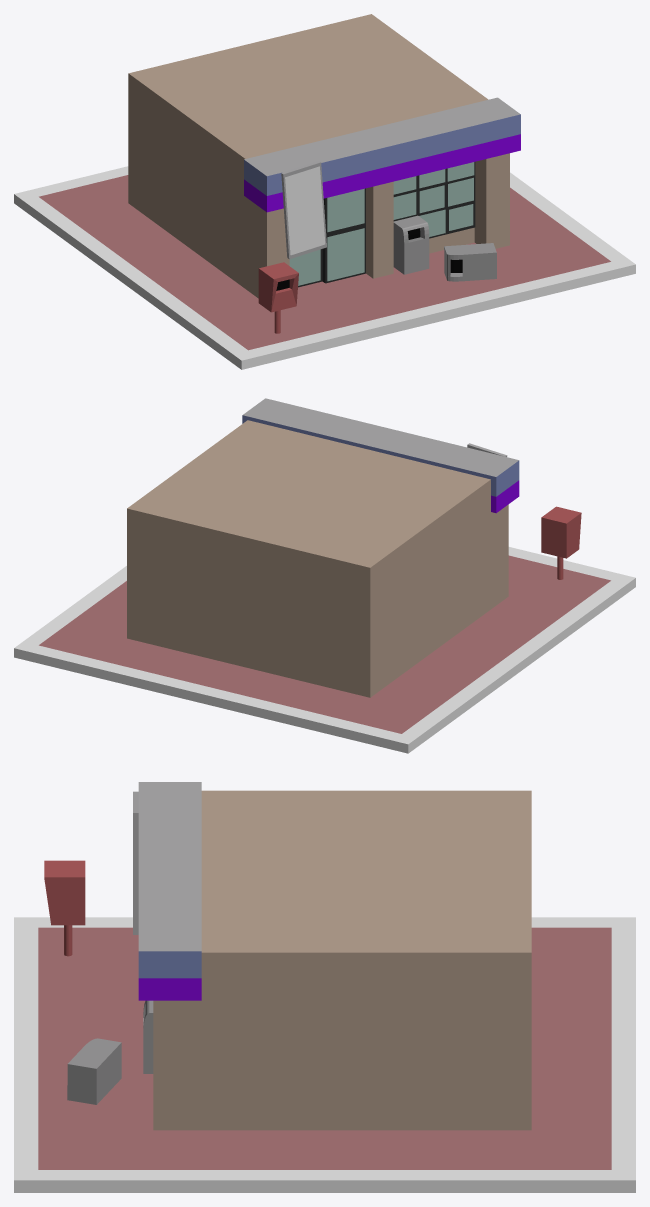
The model's file is Store.fbx.
The picture shows the model from 3 angles, top to bottom: view 1: azimuth 30°, elevation 25°; view 2: azimuth 150°, elevation 25°; view 3: azimuth 270°, elevation 25°; orthographic projection. The views are drawn at different scales.
Parts seen in each view (by area): view 1: Cube, Plane.001, Cube.001, Plane, Cube.007, Cube.002, Cube.003, Cube.005, Cube.004, Cube.006; view 2: Cube, Plane.001, Cube.001, Cube.004; view 3: Cube, Plane.001, Cube.001, Cube.005, Cube.004, Cube.002, Cube.003.
Part boxes in pixels (x1,y1,x2,y2): Cube: (128,14,509,298); Plane.001: (14,166,635,369); Cube.001: (244,97,520,212); Plane: (393,162,475,238); Cube.007: (322,188,365,283); Cube.002: (281,161,326,259); Cube.003: (393,215,429,274); Cube.005: (444,243,496,281); Cube.004: (258,262,298,312); Cube.006: (289,249,322,287); Cube: (127,420,508,697); Plane.001: (14,547,635,753); Cube.001: (242,398,519,513); Cube.004: (541,506,581,558); Cube: (153,790,531,1130); Plane.001: (14,917,635,1192); Cube.001: (138,782,201,1000); Cube.005: (67,1038,121,1104); Cube.004: (44,860,85,925); Cube.002: (133,791,138,934); Cube.003: (143,1000,153,1073).
Size of the model in its own units: 1087 by 384 by 1087.
